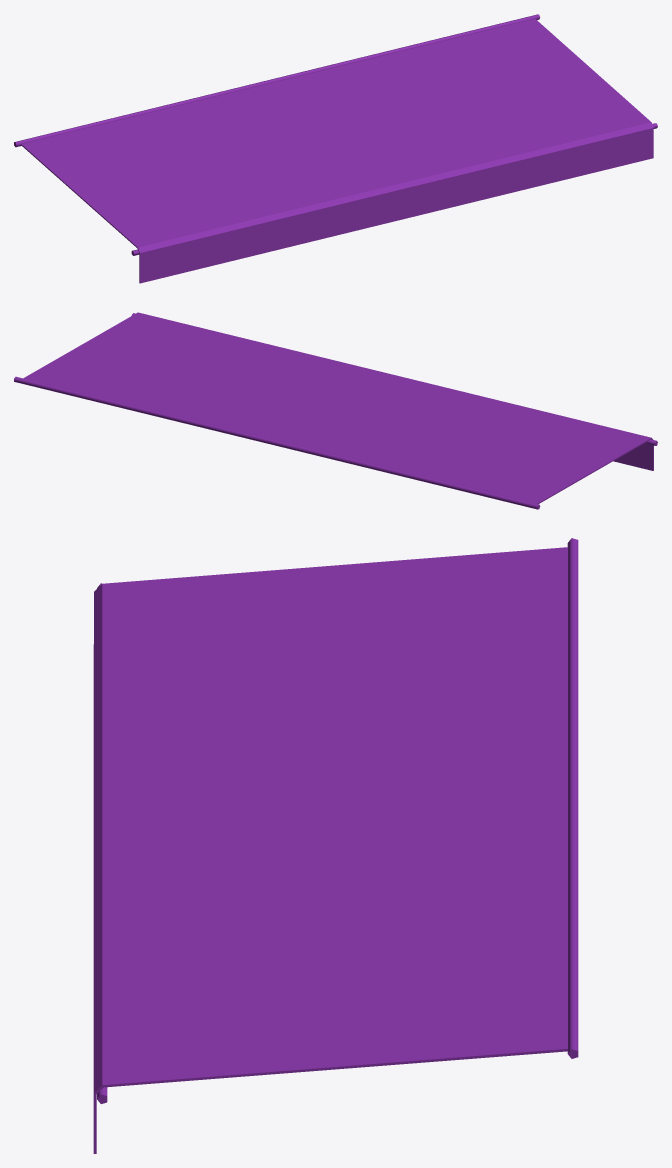
Rendered from SM_storefront_screen_03.fbx.
3 views of the same model, one above another, from view 1: azimuth 30°, elevation 25°; view 2: azimuth 150°, elevation 25°; view 3: azimuth 270°, elevation 25° (orthographic). The views are drawn at different scales.
Parts seen in each view (by area): view 1: Cylinder015; view 2: Cylinder015; view 3: Cylinder015.
Boxes of the visible parts, x1,y1,x2,y2 form: Cylinder015: (14, 14, 657, 283); Cylinder015: (14, 312, 657, 509); Cylinder015: (93, 538, 578, 1153).
Size of the model in its own units: 174 by 69.84 by 17.46.
